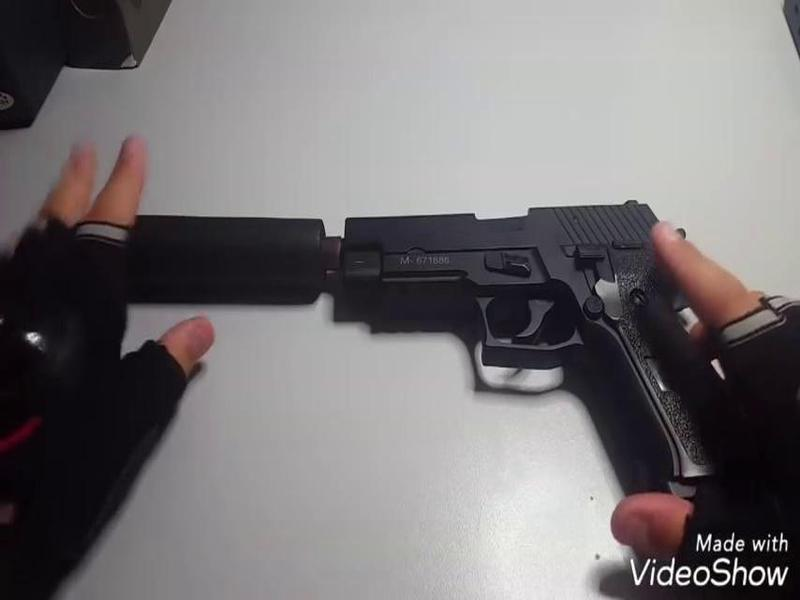Pistola: (335, 195, 753, 494)
